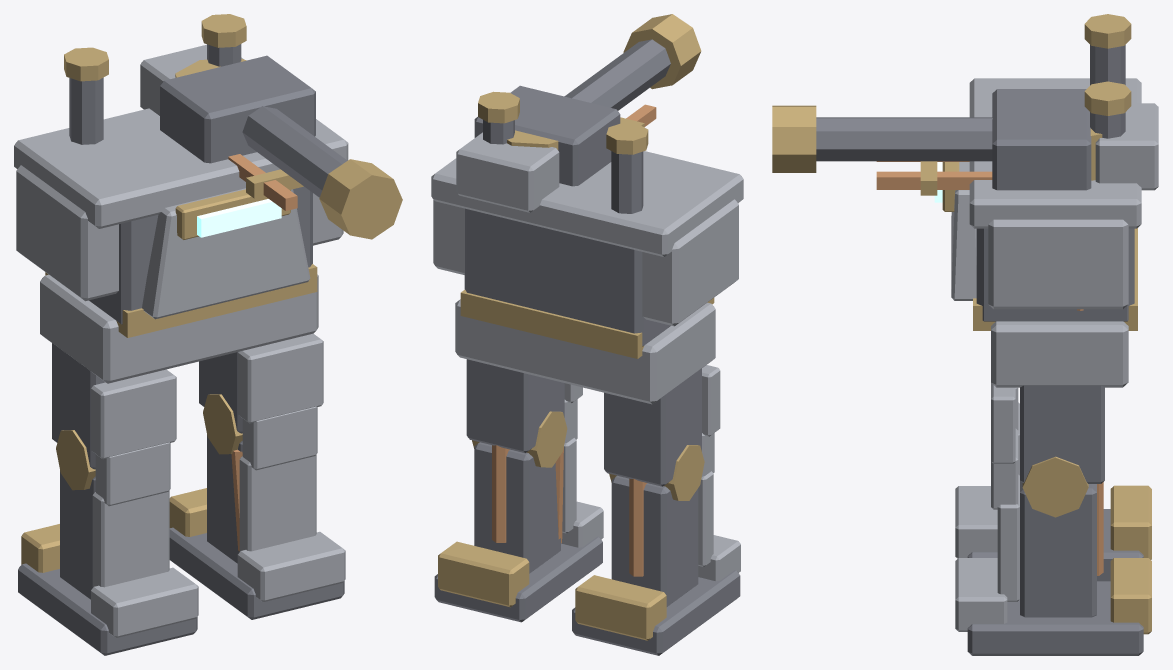
File: gearforge_walker_prototype.glb
3 views of the same model, side by side, from view 1: azimuth 30°, elevation 25°; view 2: azimuth 150°, elevation 25°; view 3: azimuth 270°, elevation 25° (orthographic). The views are drawn at different scales.
Parts seen in each view (by area): view 1: gearforge_walker_prototype_steel_lod0, gearforge_walker_prototype_dark_iron_lod0, gearforge_walker_prototype_brass_lod0, gearforge_walker_prototype_aether_glow_lod0, gearforge_walker_prototype_copper_lod0; view 2: gearforge_walker_prototype_dark_iron_lod0, gearforge_walker_prototype_steel_lod0, gearforge_walker_prototype_brass_lod0, gearforge_walker_prototype_copper_lod0; view 3: gearforge_walker_prototype_steel_lod0, gearforge_walker_prototype_dark_iron_lod0, gearforge_walker_prototype_brass_lod0, gearforge_walker_prototype_copper_lod0.
Part boxes in pixels (x1,y1,x2,y2): gearforge_walker_prototype_steel_lod0: [14, 44, 348, 637]; gearforge_walker_prototype_dark_iron_lod0: [18, 44, 347, 655]; gearforge_walker_prototype_brass_lod0: [21, 14, 402, 572]; gearforge_walker_prototype_aether_glow_lod0: [197, 199, 281, 237]; gearforge_walker_prototype_copper_lod0: [228, 154, 297, 551]; gearforge_walker_prototype_dark_iron_lod0: [434, 39, 740, 655]; gearforge_walker_prototype_steel_lod0: [431, 132, 743, 581]; gearforge_walker_prototype_brass_lod0: [438, 14, 714, 640]; gearforge_walker_prototype_copper_lod0: [492, 104, 656, 576]; gearforge_walker_prototype_steel_lod0: [951, 78, 1158, 631]; gearforge_walker_prototype_dark_iron_lod0: [816, 45, 1143, 655]; gearforge_walker_prototype_brass_lod0: [772, 14, 1151, 634]; gearforge_walker_prototype_copper_lod0: [876, 161, 1103, 575].
Bounding box in the file's own units: 2.22 × 4.34 × 2.81.
